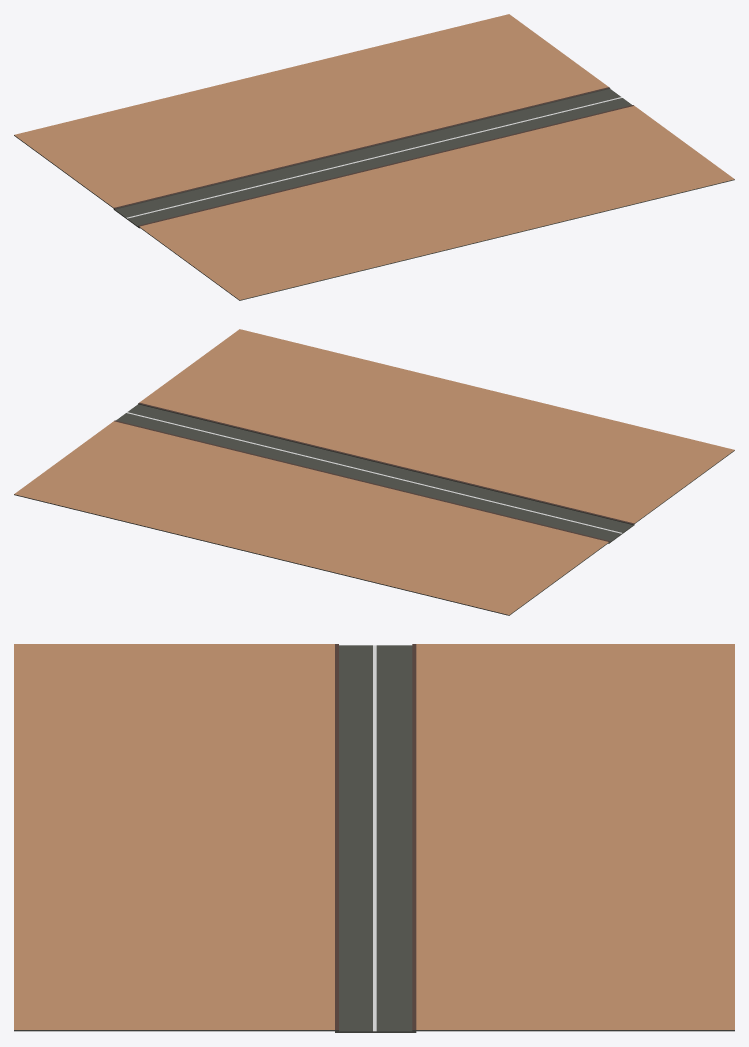
The model's file is Route.fbx.
3 renders of one model, top to bottom at view 1: azimuth 30°, elevation 25°; view 2: azimuth 150°, elevation 25°; view 3: azimuth 270°, elevation 25°, orthographic. The views are drawn at different scales.
Parts seen in each view (by area): view 1: Cube; view 2: Cube; view 3: Cube.
Boxes of the visible parts, left/top/right/bottom form: Cube: left=14, top=14, right=734, bottom=300; Cube: left=14, top=329, right=734, bottom=615; Cube: left=14, top=644, right=734, bottom=1032.
Bounding box in the file's own units: 22987 × 82.68 × 18147.
